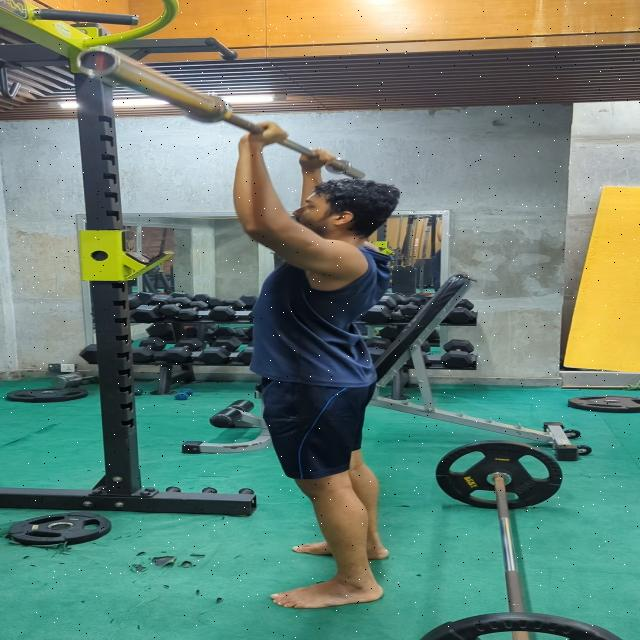Normal_OverheadPress: (198, 114, 420, 618)
